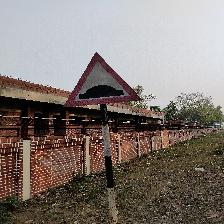Speed-breaker: (63, 52, 142, 106)
